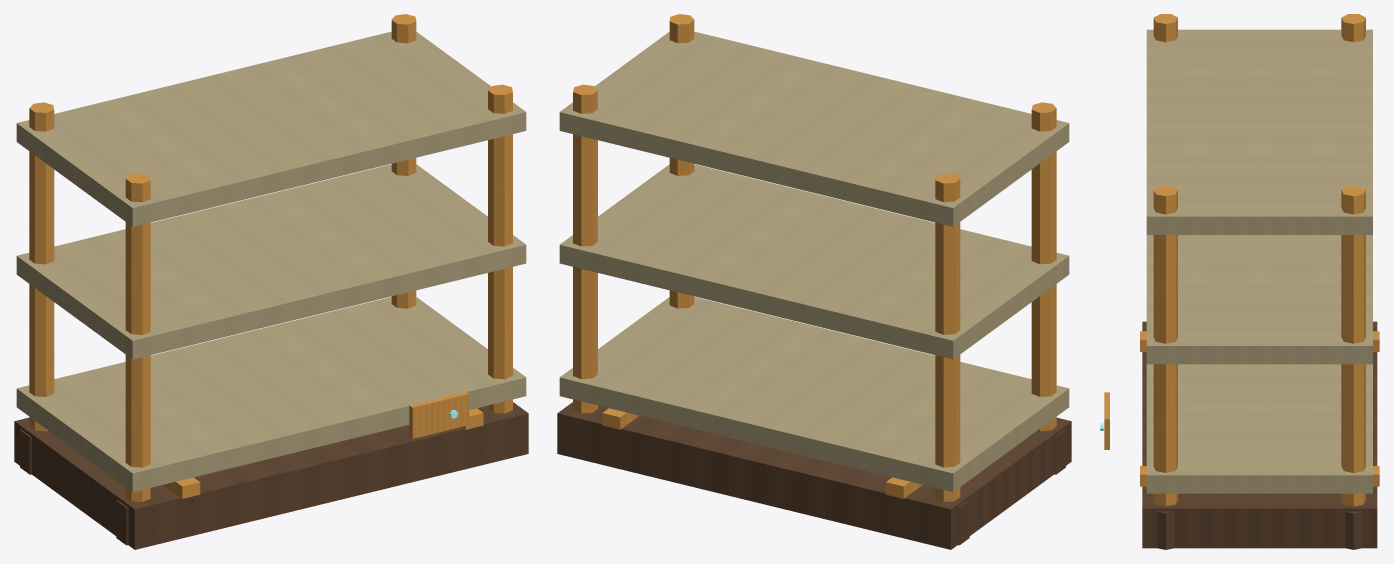
File: atlas100-s017-a06.lod1.glb
3 views of the same model, side by side, from view 1: azimuth 30°, elevation 25°; view 2: azimuth 150°, elevation 25°; view 3: azimuth 270°, elevation 25° (orthographic). The views are drawn at different scales.
Visible parts, largest first — view 1: atlas100-s017-a06:part-013, atlas100-s017-a06:part-012, atlas100-s017-a06:part-011, atlas100-s017-a06:part-000, atlas100-s017-a06:part-005, atlas100-s017-a06:part-009, atlas100-s017-a06:part-003, atlas100-s017-a06:part-014, atlas100-s017-a06:part-007; view 2: atlas100-s017-a06:part-013, atlas100-s017-a06:part-012, atlas100-s017-a06:part-011, atlas100-s017-a06:part-000, atlas100-s017-a06:part-003, atlas100-s017-a06:part-007, atlas100-s017-a06:part-005, atlas100-s017-a06:part-009; view 3: atlas100-s017-a06:part-013, atlas100-s017-a06:part-012, atlas100-s017-a06:part-011, atlas100-s017-a06:part-000, atlas100-s017-a06:part-007, atlas100-s017-a06:part-009, atlas100-s017-a06:part-008, atlas100-s017-a06:part-010, atlas100-s017-a06:part-005, atlas100-s017-a06:part-003, atlas100-s017-a06:part-014.
Boxes of the visible parts, x1,y1,x2,y2 form: atlas100-s017-a06:part-013: (16,31,526,226); atlas100-s017-a06:part-012: (16,164,526,359); atlas100-s017-a06:part-011: (16,297,526,491); atlas100-s017-a06:part-000: (14,402,528,549); atlas100-s017-a06:part-005: (125,173,150,501); atlas100-s017-a06:part-009: (488,84,512,413); atlas100-s017-a06:part-003: (29,102,54,431); atlas100-s017-a06:part-014: (409,392,469,438); atlas100-s017-a06:part-007: (391,14,416,308); atlas100-s017-a06:part-013: (559,31,1069,226); atlas100-s017-a06:part-012: (559,164,1069,359); atlas100-s017-a06:part-011: (559,297,1069,491); atlas100-s017-a06:part-000: (557,402,1071,549); atlas100-s017-a06:part-003: (935,173,960,501); atlas100-s017-a06:part-007: (573,84,597,413); atlas100-s017-a06:part-005: (1031,102,1056,431); atlas100-s017-a06:part-009: (669,14,694,308); atlas100-s017-a06:part-013: (1146,29,1372,234); atlas100-s017-a06:part-012: (1146,235,1372,364); atlas100-s017-a06:part-011: (1146,364,1372,493); atlas100-s017-a06:part-000: (1142,321,1377,548); atlas100-s017-a06:part-007: (1341,186,1365,506); atlas100-s017-a06:part-009: (1153,186,1177,506); atlas100-s017-a06:part-008: (1345,511,1362,549); atlas100-s017-a06:part-010: (1157,511,1174,549); atlas100-s017-a06:part-005: (1153,14,1177,42); atlas100-s017-a06:part-003: (1341,14,1365,42); atlas100-s017-a06:part-014: (1104,392,1109,449).
Bounding box in the file's own units: 2.68 × 2.3 × 1.66.
Materials: 4 (4 with a texture image).
